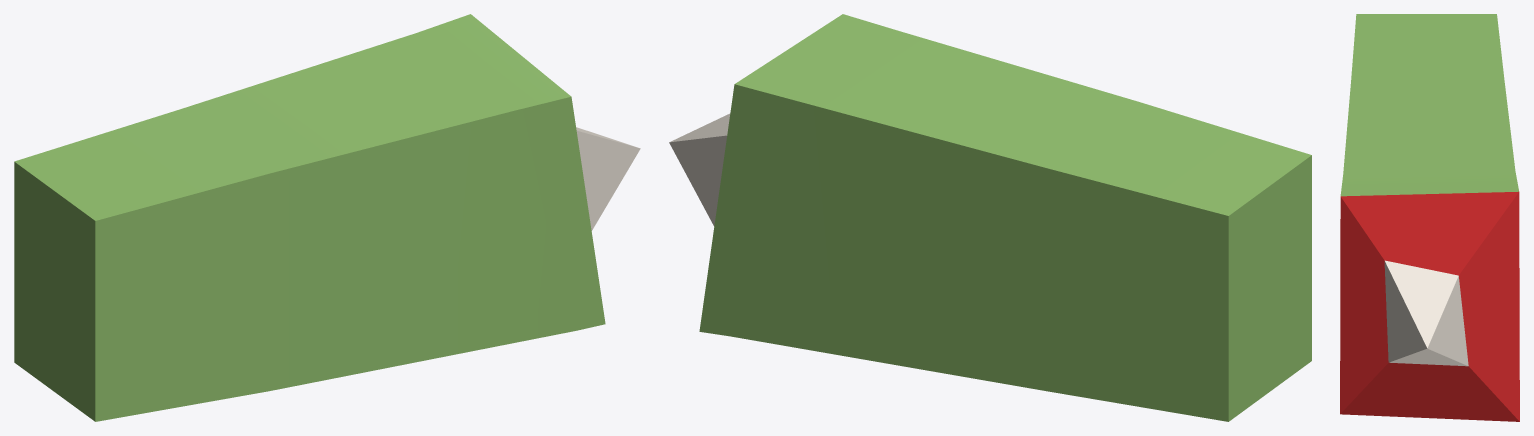
File: BasicZombieRightForearmGib.glb
3 views of the same model, side by side, from view 1: azimuth 30°, elevation 25°; view 2: azimuth 150°, elevation 25°; view 3: azimuth 270°, elevation 25° (orthographic). The views are drawn at different scales.
Parts seen in each view (by area): view 1: BasicZombieRightForearmGib; view 2: BasicZombieRightForearmGib; view 3: BasicZombieRightForearmGib.
Boxes of the visible parts, box(x1,y1,x2,y2) form: BasicZombieRightForearmGib: box(14, 14, 640, 421); BasicZombieRightForearmGib: box(669, 14, 1311, 421); BasicZombieRightForearmGib: box(1340, 14, 1519, 421).
Bounding box in the file's own units: 2.57 × 1.05 × 0.7895.
Materials: 1 (1 with a texture image).
